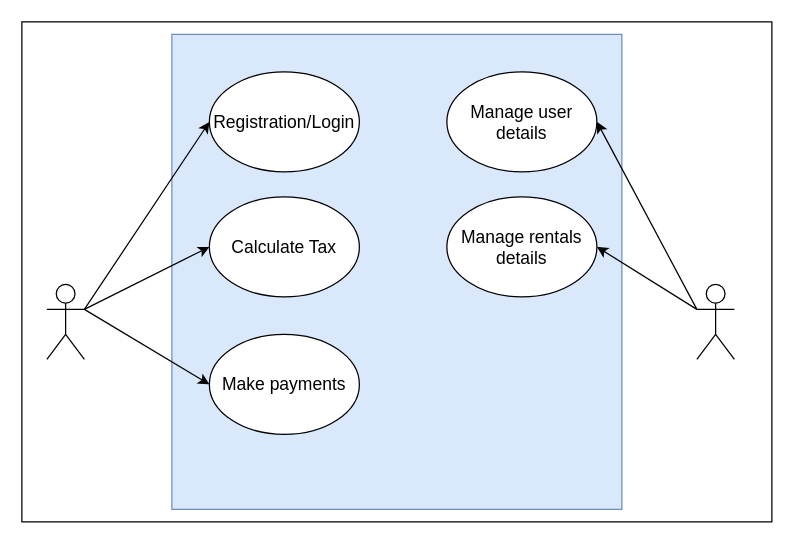
This 794x544 diagram has some shape labels left out. Here are the shapes that lost their labels. From the top down, the centre of each, then its label:
At (x=65, y=321): "User".
At (x=715, y=321): "Admin".
